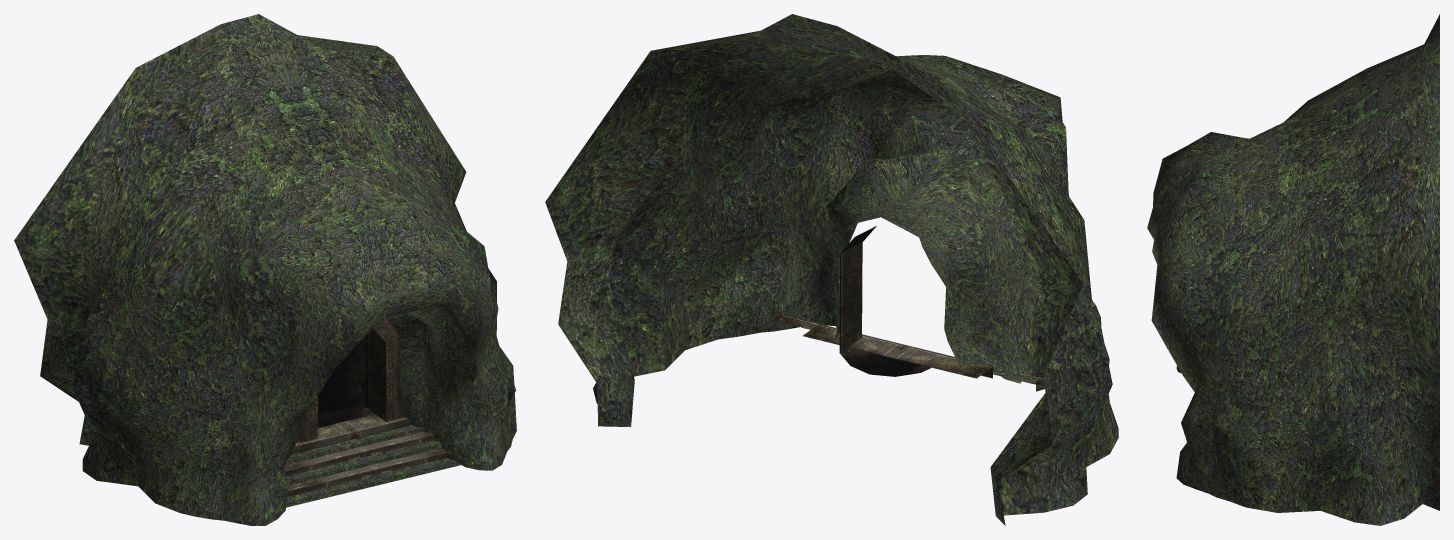
The model's file is dmw_entrance.fbx.
3 views of the same model, side by side, from view 1: azimuth 30°, elevation 25°; view 2: azimuth 150°, elevation 25°; view 3: azimuth 270°, elevation 25° (orthographic). The views are drawn at different scales.
Visible parts, largest first — view 1: dmw_entrance_rock, dmw_entrance_bilid; view 2: dmw_entrance_rock, dmw_entrance_bilid; view 3: dmw_entrance_rock.
Boxes of the visible parts, bbox=[...] form: dmw_entrance_rock: bbox=[14, 14, 516, 525]; dmw_entrance_bilid: bbox=[284, 317, 447, 496]; dmw_entrance_rock: bbox=[545, 14, 1118, 525]; dmw_entrance_bilid: bbox=[772, 226, 1044, 386]; dmw_entrance_rock: bbox=[1147, 14, 1439, 525].
Size of the model in its own units: 37.24 by 30.57 by 21.08.
